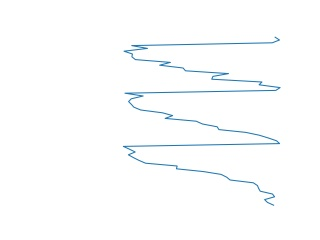distributaryMouthBar: (121, 35, 284, 210)
